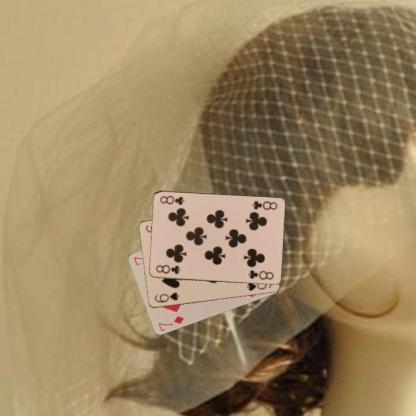6s: (152, 289, 180, 304)
7d: (155, 313, 185, 333)
8c: (153, 262, 182, 276), (249, 198, 278, 212)
